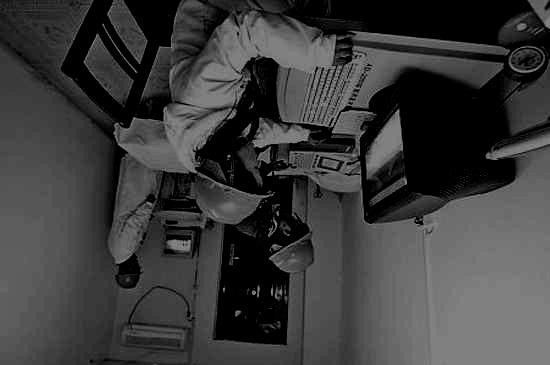helmet: (193, 137, 275, 226), (263, 205, 315, 273), (115, 255, 144, 289)
